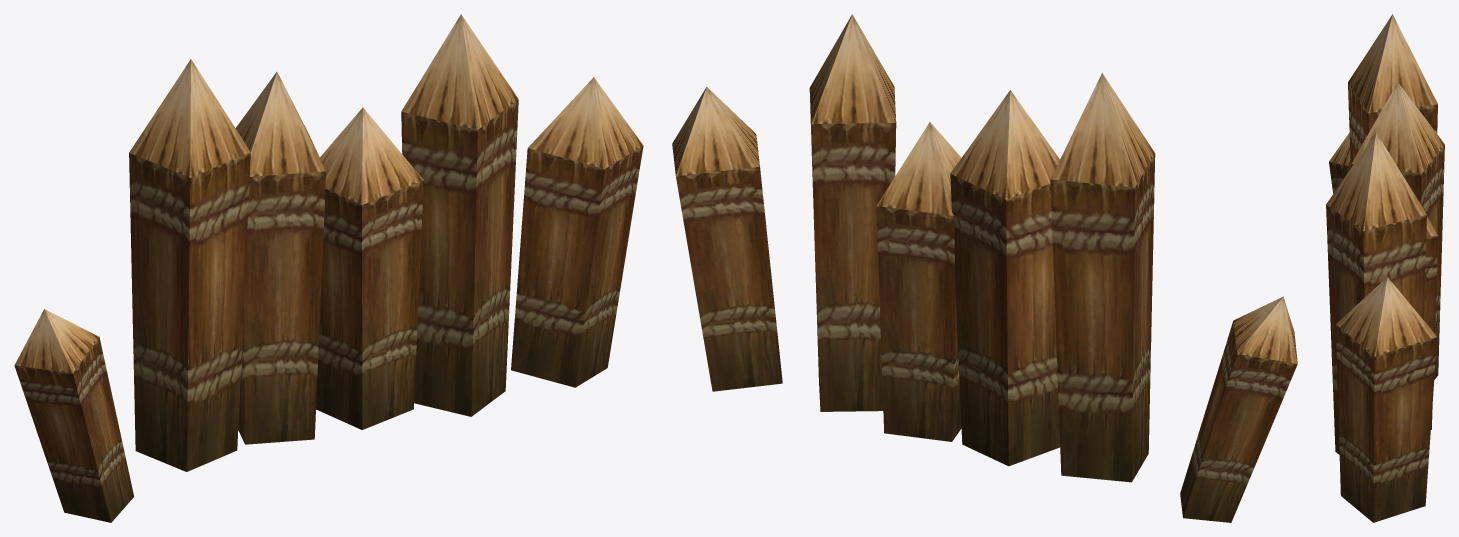
The model's file is environment_common_weilan_001_a.FBX.
The picture shows the model from 3 angles, left to right: view 1: azimuth 30°, elevation 25°; view 2: azimuth 150°, elevation 25°; view 3: azimuth 270°, elevation 25°; orthographic projection. The views are drawn at different scales.
Visible parts, largest first — view 1: environment_common_weilan_001_a; view 2: environment_common_weilan_001_a; view 3: environment_common_weilan_001_a.
Part boxes in pixels (<box>): environment_common_weilan_001_a: <box>14,14,643,522</box>; environment_common_weilan_001_a: <box>672,14,1297,522</box>; environment_common_weilan_001_a: <box>1326,14,1444,522</box>.
Size of the model in its own units: 193 by 124 by 37.13.
Materials: 1 (1 with a texture image).
